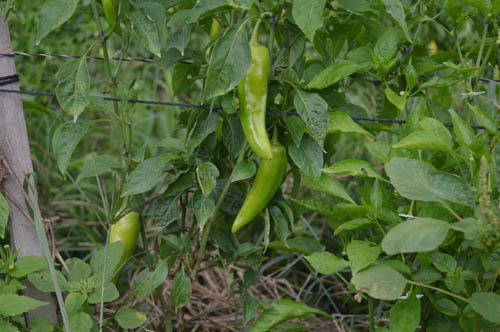ChiliPepper: (228, 146, 285, 226), (240, 46, 273, 159), (108, 212, 138, 281)
